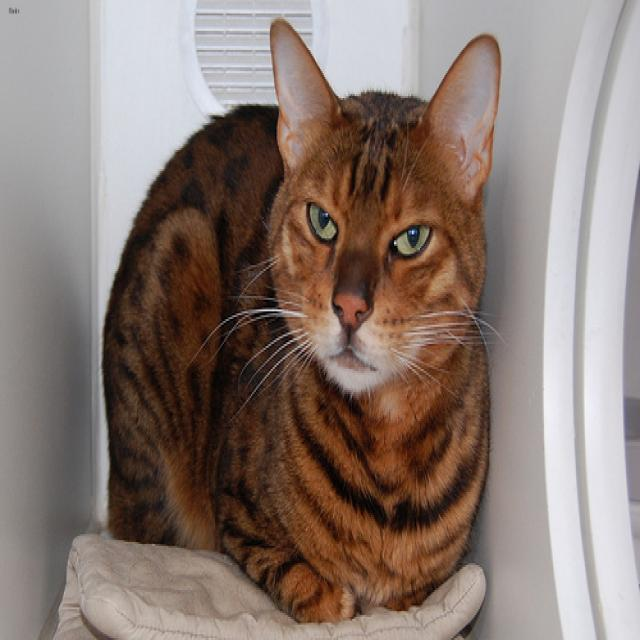Bengal: (252, 15, 505, 398)
